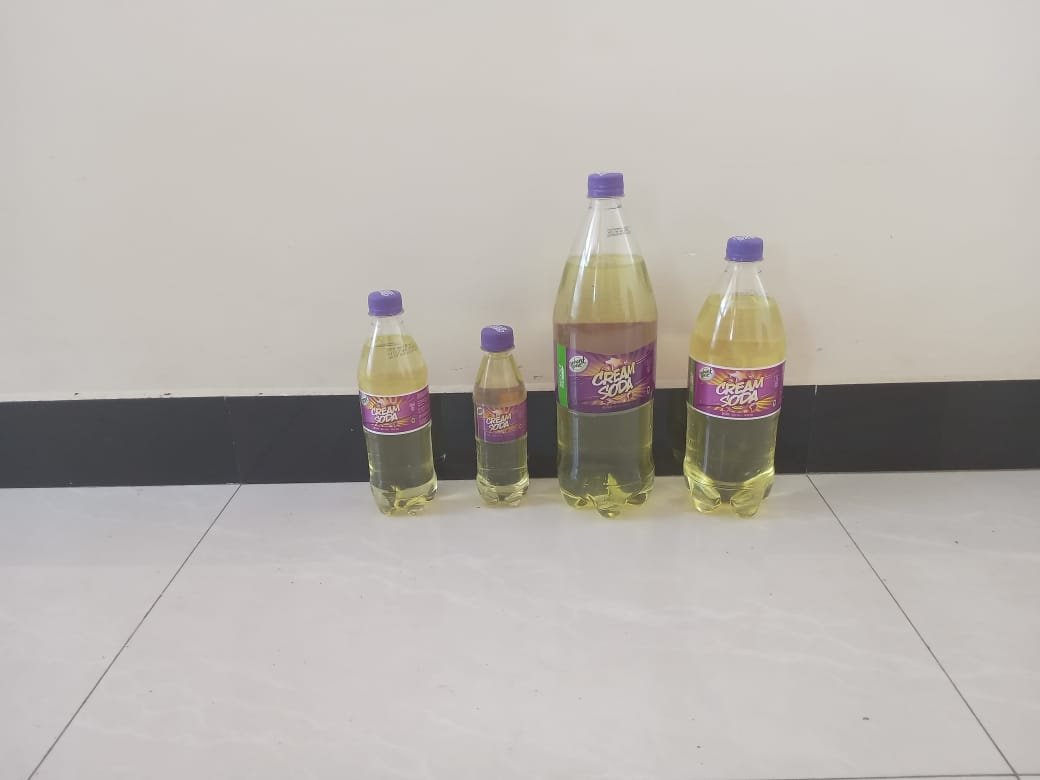L: (550, 173, 662, 520)
M: (683, 235, 782, 521)
S: (351, 292, 438, 520)
Xs: (467, 324, 534, 511)
